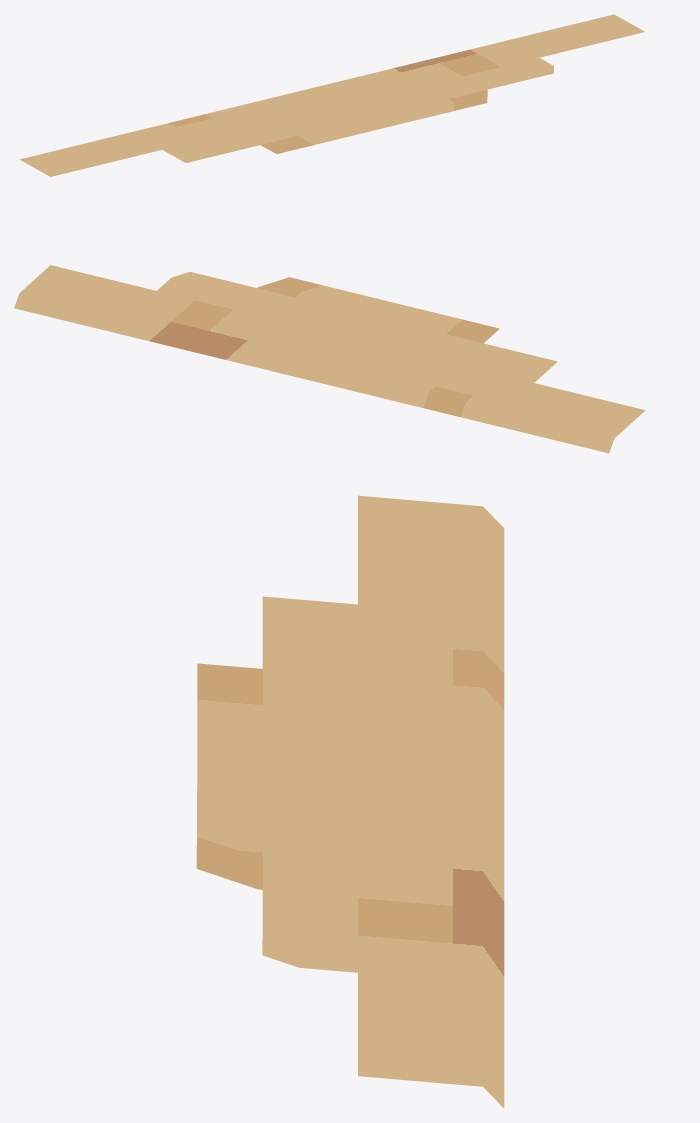
3 views of the same model, one above another, from view 1: azimuth 30°, elevation 25°; view 2: azimuth 150°, elevation 25°; view 3: azimuth 270°, elevation 25° (orthographic). The views are drawn at different scales.
Size of the model in its own units: 1 by 0.0373 by 0.2249.
Materials: 1 (1 with a texture image).
